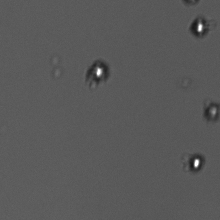Living Cell: (84, 59, 109, 85), (189, 15, 208, 38), (202, 101, 219, 121), (188, 152, 203, 173)
